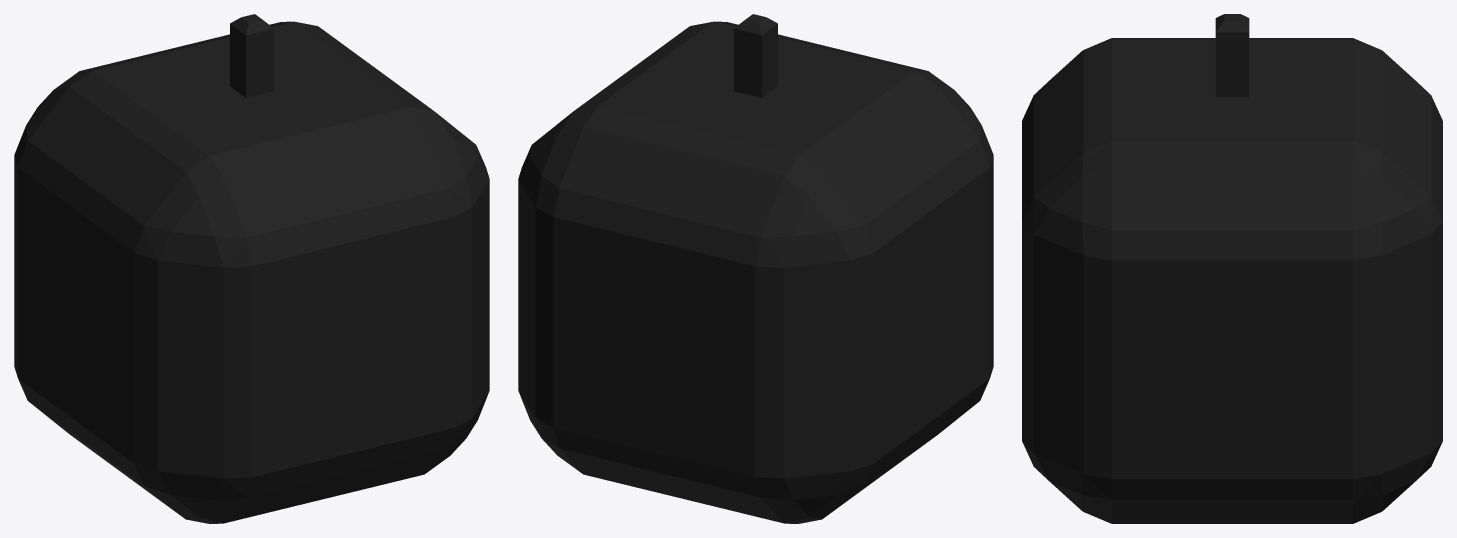
The model's file is bomb.obj.
The picture shows the model from 3 angles, left to right: view 1: azimuth 30°, elevation 25°; view 2: azimuth 150°, elevation 25°; view 3: azimuth 270°, elevation 25°; orthographic projection. The views are drawn at different scales.
Parts seen in each view (by area): view 1: Cube; view 2: Cube; view 3: Cube.
Part boxes in pixels (left/top/right/bottom): Cube: left=14, top=14, right=489, bottom=523; Cube: left=518, top=14, right=993, bottom=523; Cube: left=1022, top=14, right=1442, bottom=523.
Bounding box in the file's own units: 1.5 × 1.79 × 1.5.
1 material, 1 textured.
